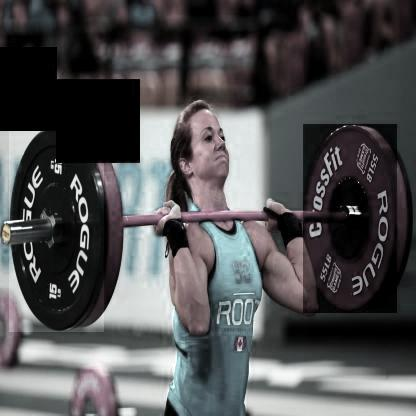barbell: (10, 127, 105, 333), (303, 125, 398, 314)
